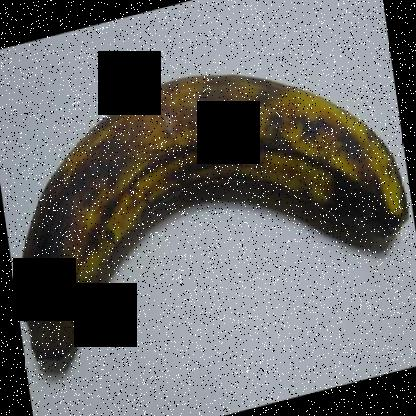overripe: (6, 67, 408, 369)
